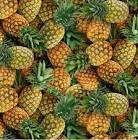Pineapple: (36, 1, 80, 51), (3, 10, 48, 54), (37, 94, 80, 140), (20, 62, 52, 113), (79, 89, 131, 117), (3, 105, 45, 138), (67, 43, 111, 72), (113, 20, 137, 71), (84, 1, 130, 22)
